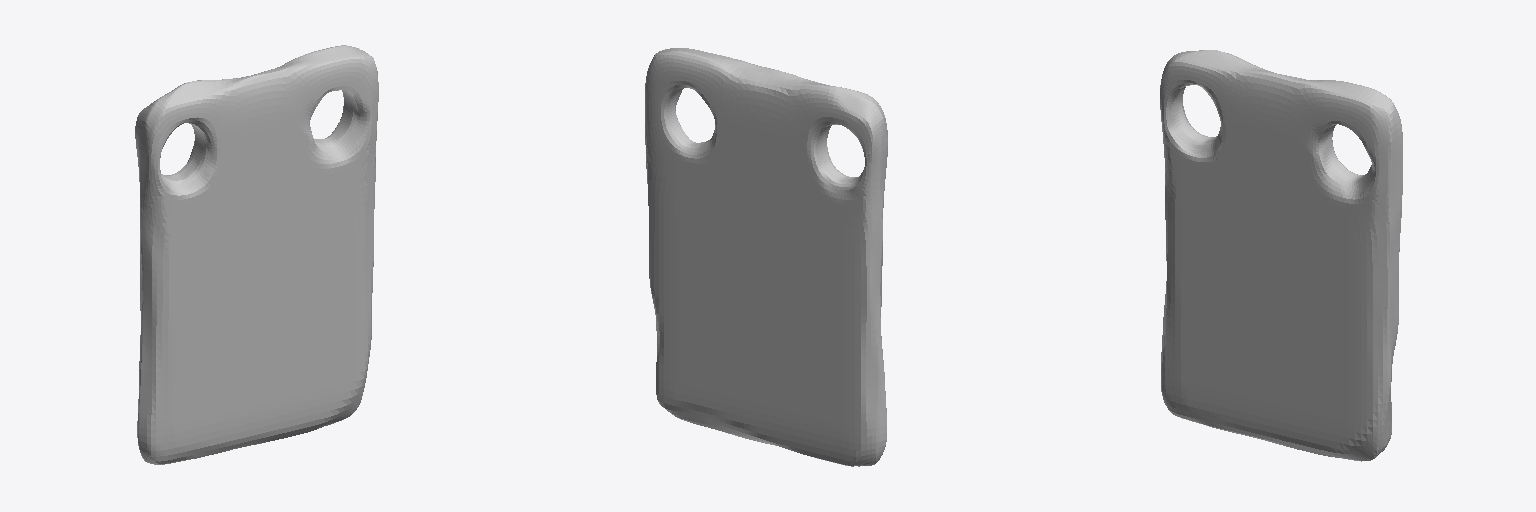
Rendered from PlayerScorePM3D_Cylinder3D_4.OBJ.
3 renders of one model, left to right at view 1: azimuth 30°, elevation 25°; view 2: azimuth 150°, elevation 25°; view 3: azimuth 330°, elevation 25°, orthographic.
Visible parts, largest first — view 1: ZBrushPolyMesh3D; view 2: ZBrushPolyMesh3D; view 3: ZBrushPolyMesh3D.
Part boxes in pixels (x1,y1,x2,y2): ZBrushPolyMesh3D: (135,45,378,464); ZBrushPolyMesh3D: (645,48,887,466); ZBrushPolyMesh3D: (1160,50,1402,461).
Bounding box in the file's own units: 0.4223 × 0.6381 × 0.0575.